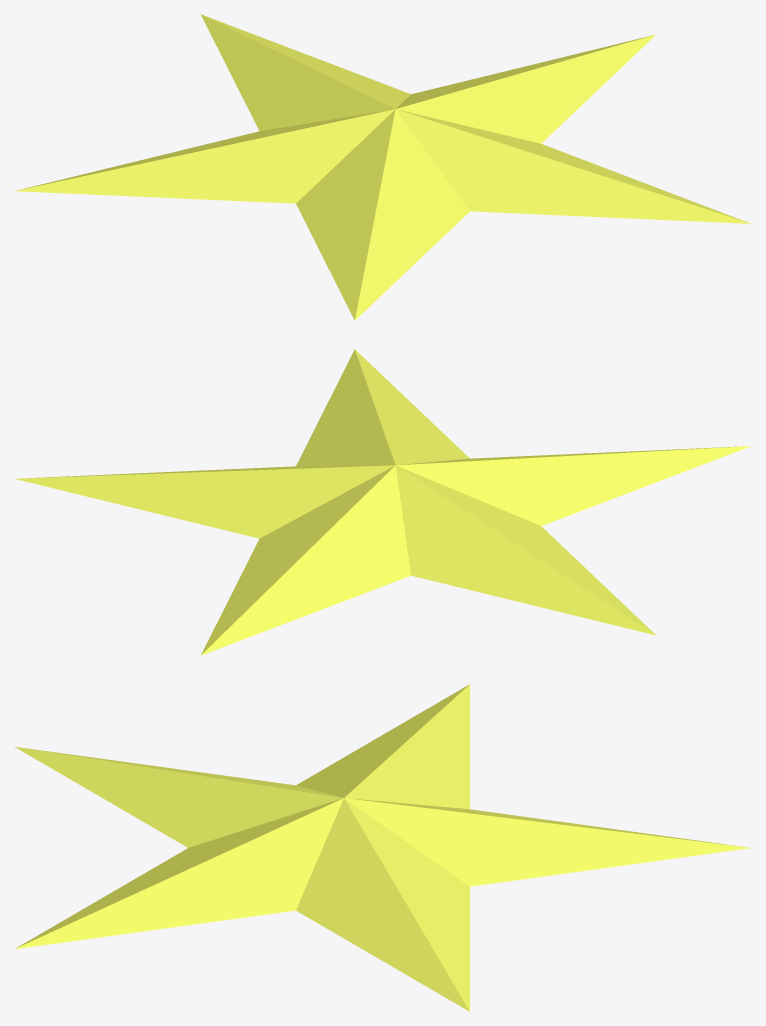
Rendered from 20facestar.glb.
The picture shows the model from 3 angles, top to bottom: view 1: azimuth 30°, elevation 25°; view 2: azimuth 150°, elevation 25°; view 3: azimuth 270°, elevation 25°; orthographic projection. The views are drawn at different scales.
Visible parts, largest first — view 1: Mesh; view 2: Mesh; view 3: Mesh.
Part boxes in pixels (x1,y1,x2,y2): Mesh: [14, 14, 751, 320]; Mesh: [14, 349, 751, 655]; Mesh: [14, 684, 750, 1011].
Size of the model in its own units: 4.98 by 0.708 by 4.74.
